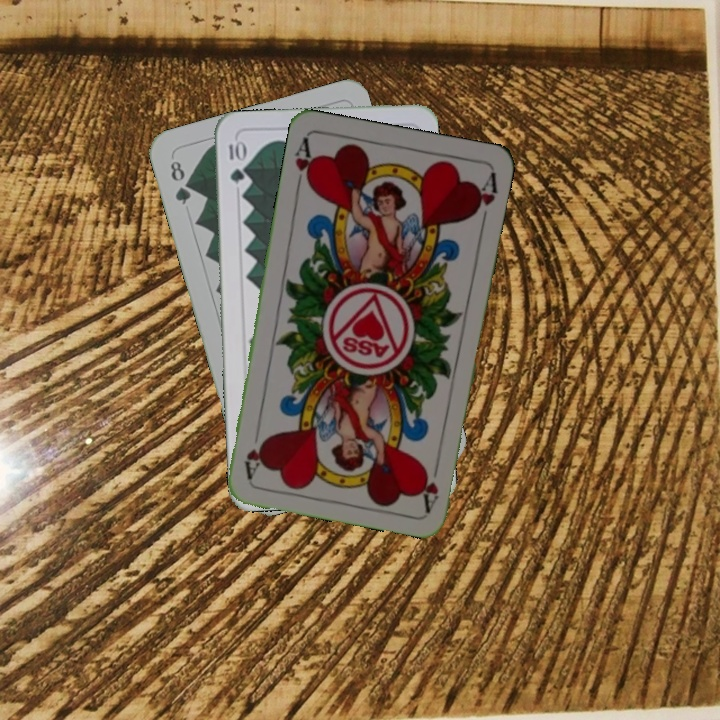G10: (225, 137, 246, 185)
G8: (166, 156, 194, 207)
HA: (291, 134, 318, 193), (416, 454, 443, 513)
